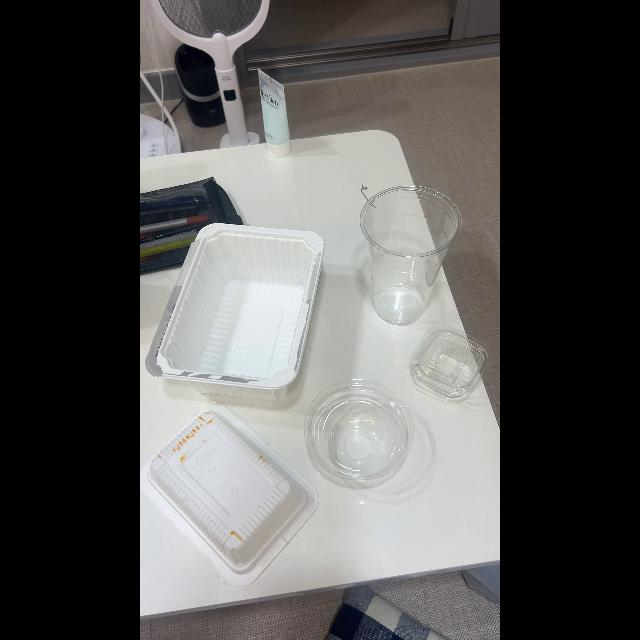clean: (147, 227, 325, 393), (362, 183, 462, 325), (307, 380, 411, 486), (409, 326, 491, 398)
dirty: (148, 411, 304, 565)
